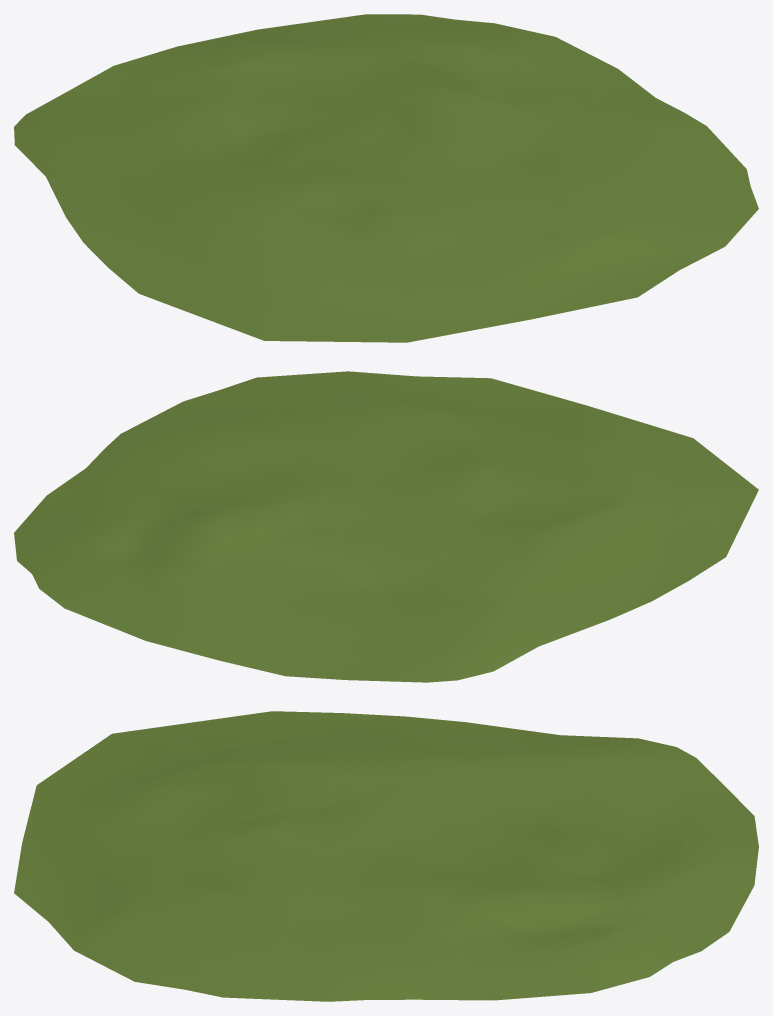
The model's file is rpgpp_ag_terrain_generic_03.fbx.
The picture shows the model from 3 angles, top to bottom: view 1: azimuth 30°, elevation 25°; view 2: azimuth 150°, elevation 25°; view 3: azimuth 270°, elevation 25°; orthographic projection. The views are drawn at different scales.
Visible parts, largest first — view 1: rpgpp_ag_terrain_generic_03; view 2: rpgpp_ag_terrain_generic_03; view 3: rpgpp_ag_terrain_generic_03.
Part boxes in pixels (left/top/right/bottom): rpgpp_ag_terrain_generic_03: left=14, top=14, right=758, bottom=342; rpgpp_ag_terrain_generic_03: left=14, top=371, right=758, bottom=682; rpgpp_ag_terrain_generic_03: left=14, top=711, right=758, bottom=1001.
Size of the model in its own units: 18.34 by 0.5546 by 19.74.
